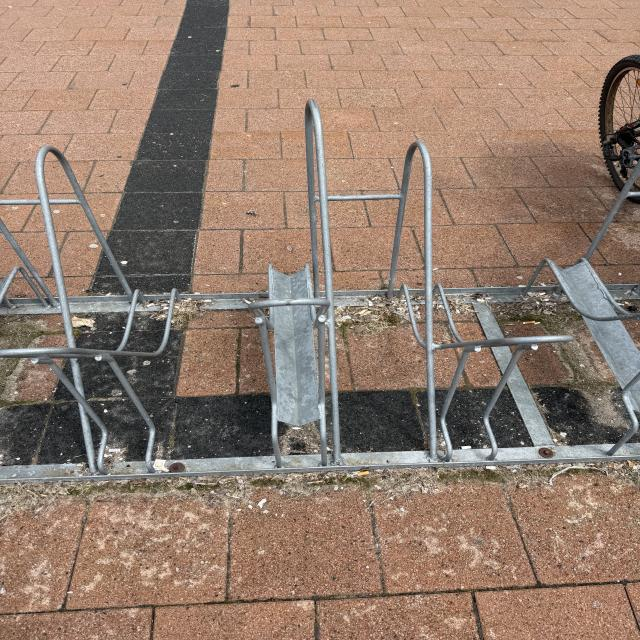Bicycle Rack: (0, 100, 640, 479)
